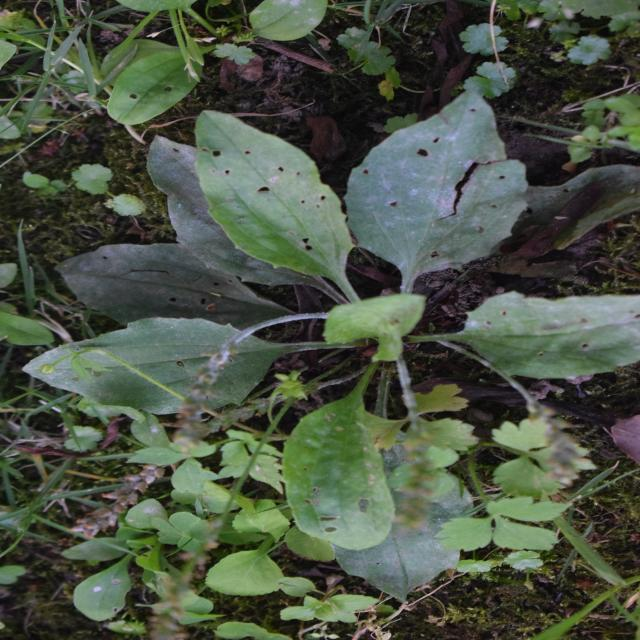plantain: (85, 114, 518, 534)
